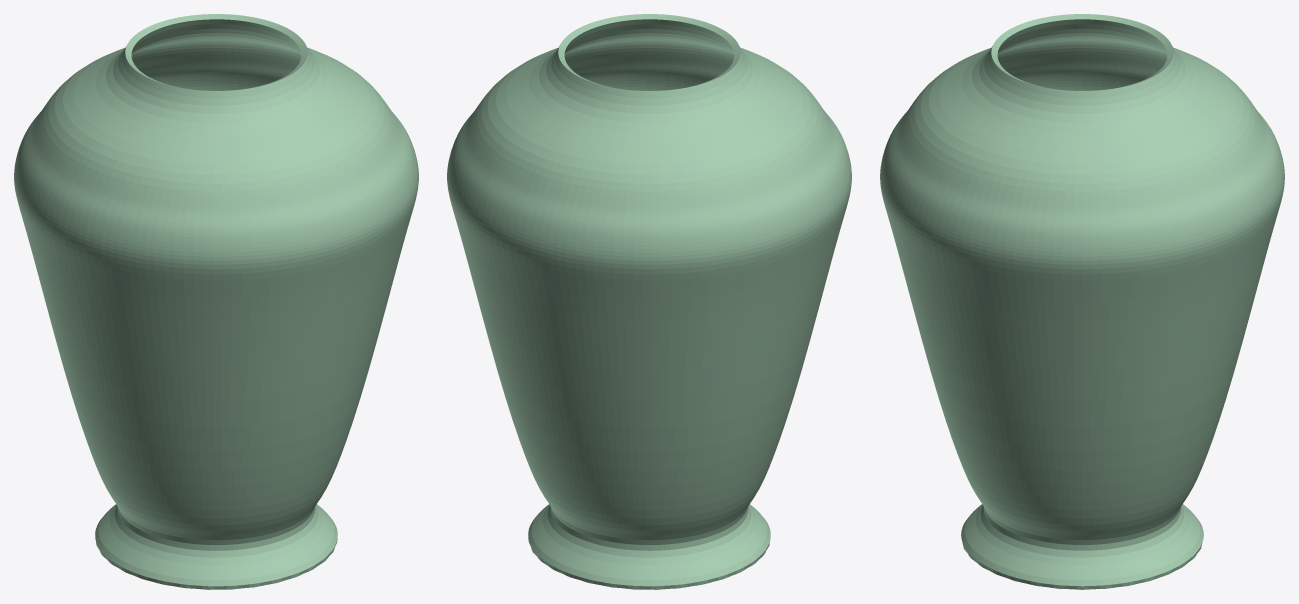
Rendered from maljakko2.fbx.
3 views of the same model, side by side, from view 1: azimuth 30°, elevation 25°; view 2: azimuth 150°, elevation 25°; view 3: azimuth 270°, elevation 25° (orthographic).
Parts seen in each view (by area): view 1: Cylinder; view 2: Cylinder; view 3: Cylinder.
Boxes of the visible parts, x1,y1,x2,y2 form: Cylinder: [14, 14, 418, 589]; Cylinder: [447, 14, 851, 589]; Cylinder: [880, 14, 1284, 589].
Bounding box in the file's own units: 29.26 × 39.4 × 29.26.
